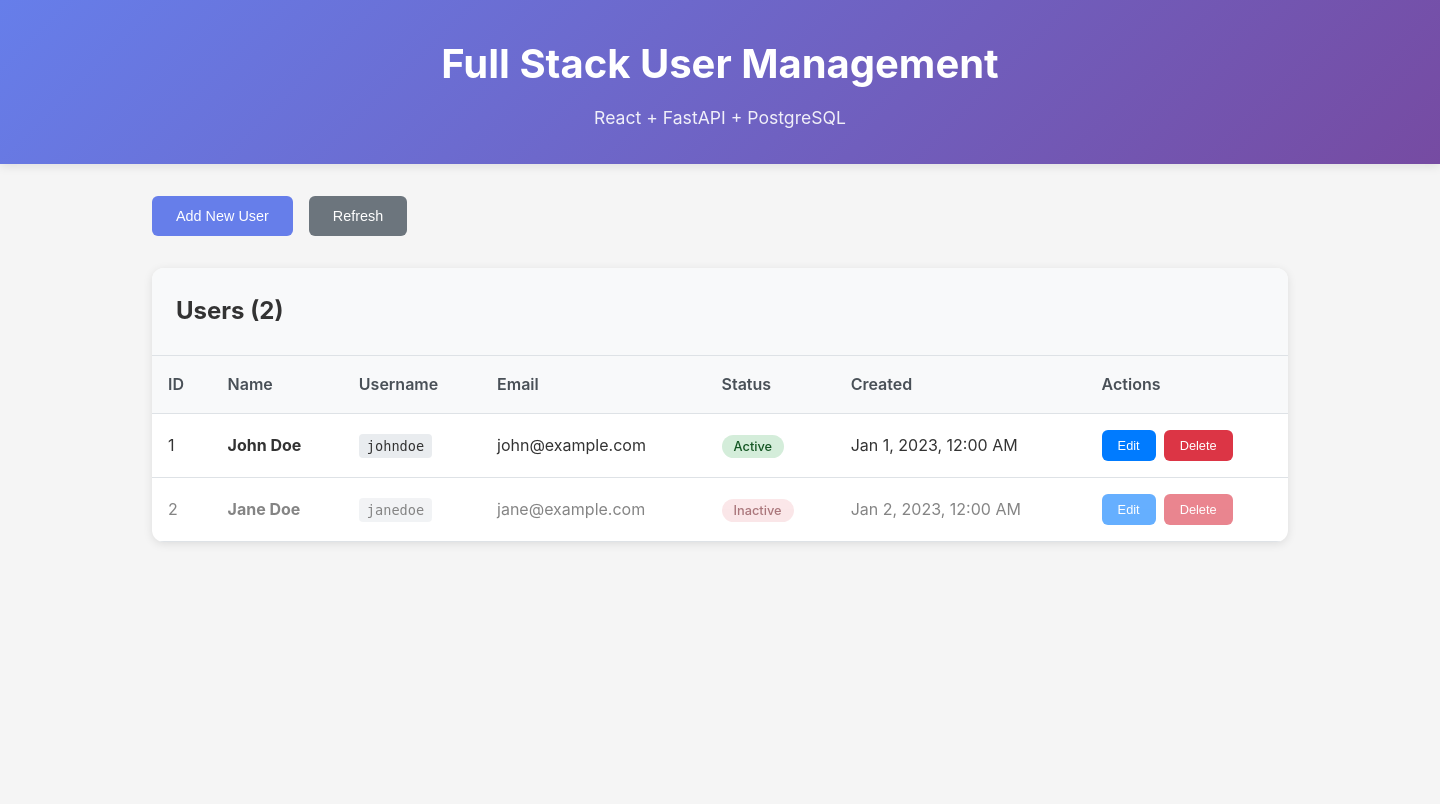
Test: App Component › opens user form when Add New User is clicked
Click the button "Add New User": (222, 216) left=152, top=196, right=293, bottom=236
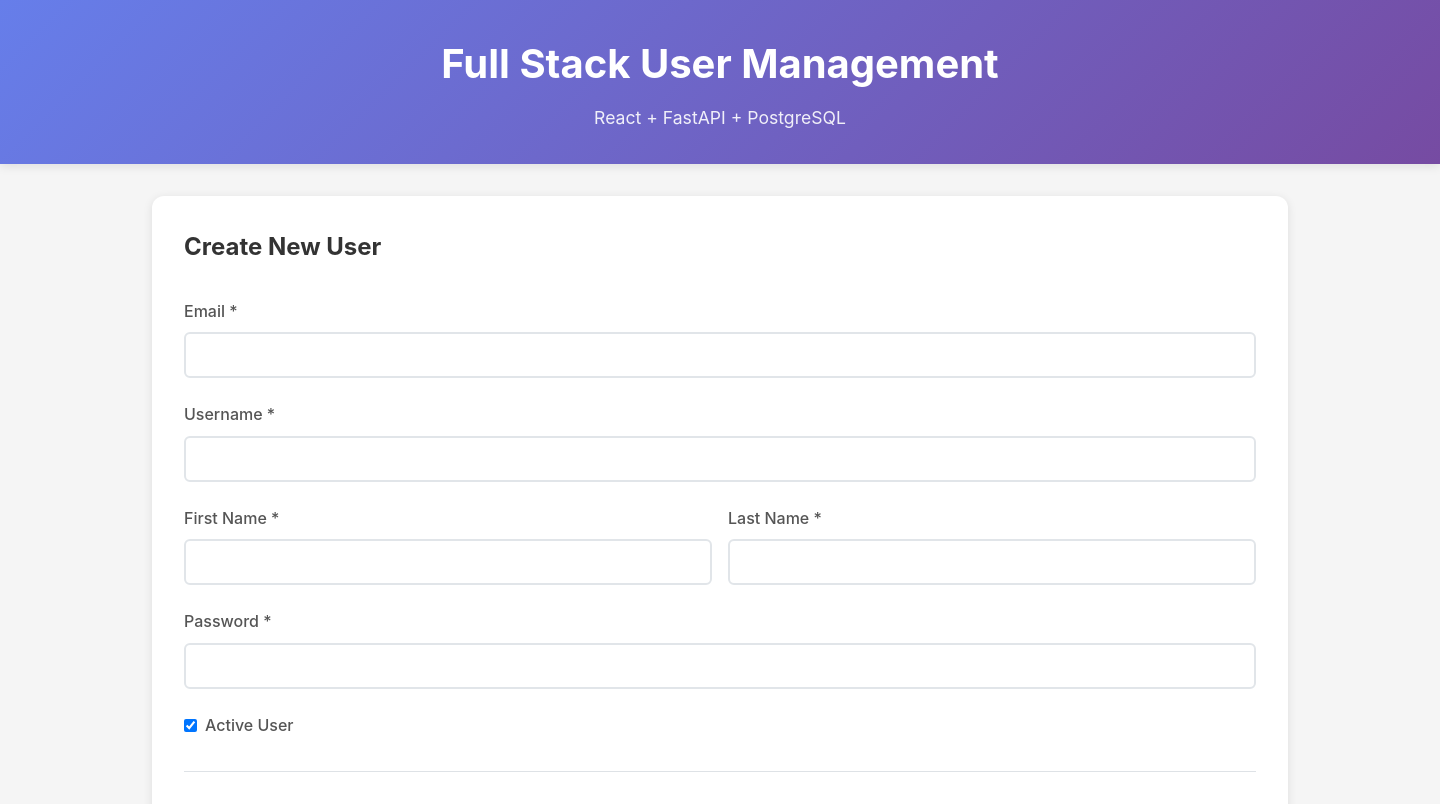
Check: the heading "Create New User" is shown, box left=184, top=232, right=381, bottom=261
